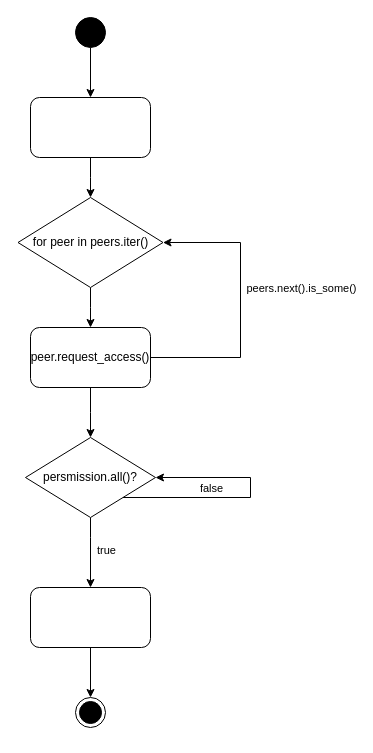
Image size: 373x753. Some labels were removed from this diagram. The centre of each missing label's shape, as x and y in pixels:
state.set(WANTED): (x=90, y=617)
state.set(WANTED) timestamp = now() permissions.reset(): (x=90, y=127)
